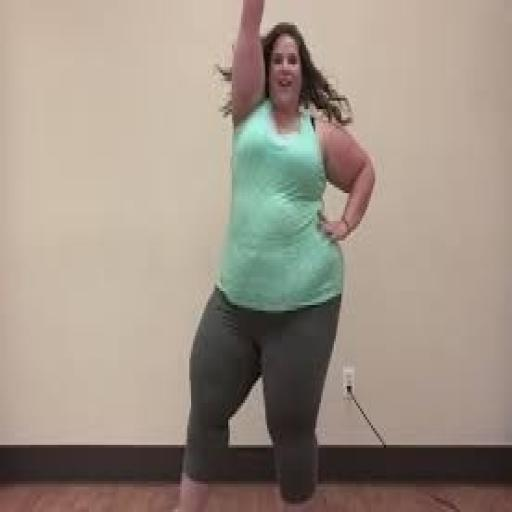dancing: (167, 0, 378, 509)
